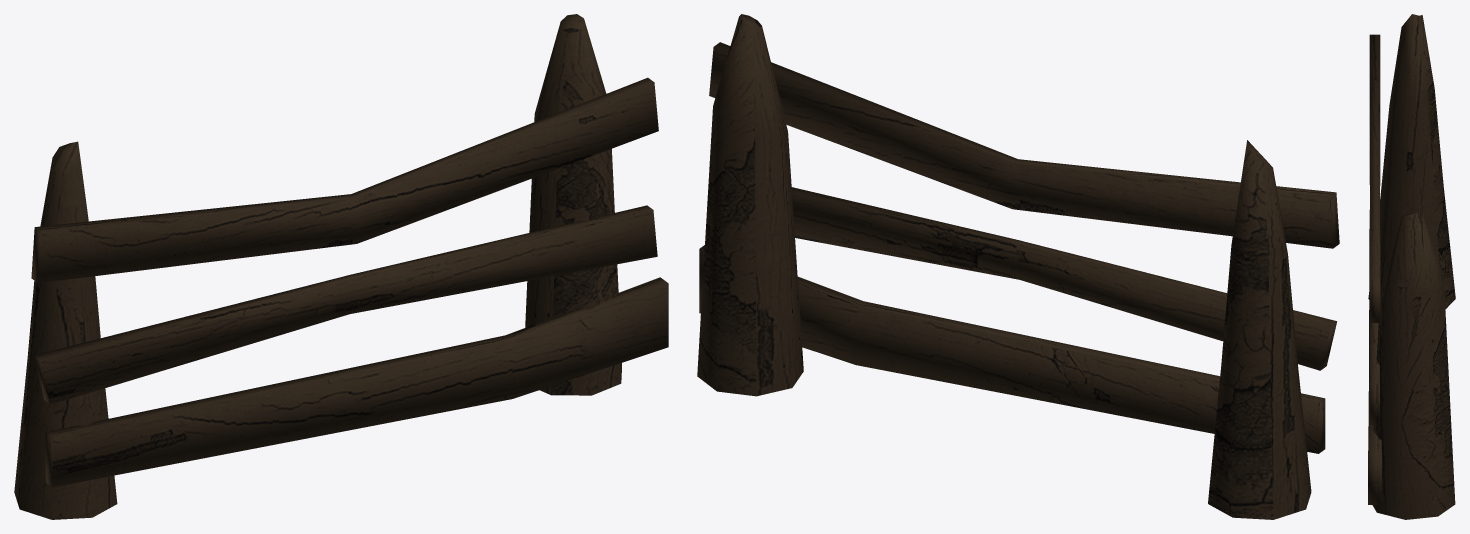
Rendered from WoodFence2.fbx.
3 renders of one model, left to right at view 1: azimuth 30°, elevation 25°; view 2: azimuth 150°, elevation 25°; view 3: azimuth 270°, elevation 25°, orthographic. The views are drawn at different scales.
Visible parts, largest first — view 1: WoodFence2; view 2: WoodFence2; view 3: WoodFence2.
Part boxes in pixels (bbox=[...]): WoodFence2: bbox=[14, 14, 668, 519]; WoodFence2: bbox=[697, 14, 1339, 519]; WoodFence2: bbox=[1368, 14, 1455, 519].
Bounding box in the file's own units: 2.25 × 1.22 × 0.3316.
